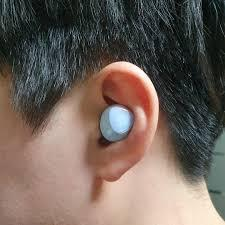earphone: (95, 97, 139, 146)
